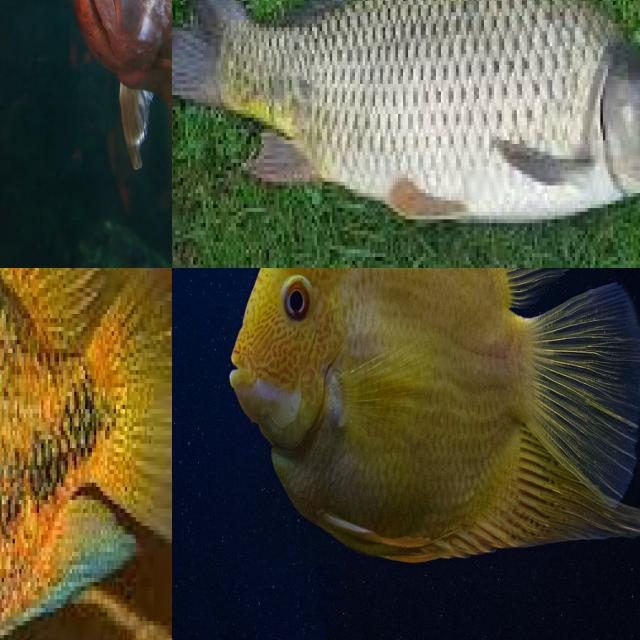fish: (172, 0, 640, 268), (0, 268, 172, 640), (491, 309, 640, 640), (0, 0, 172, 268)
